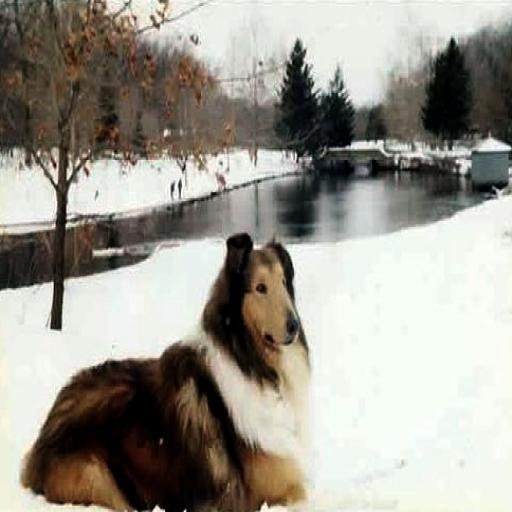dog_face: (215, 234, 310, 363)
